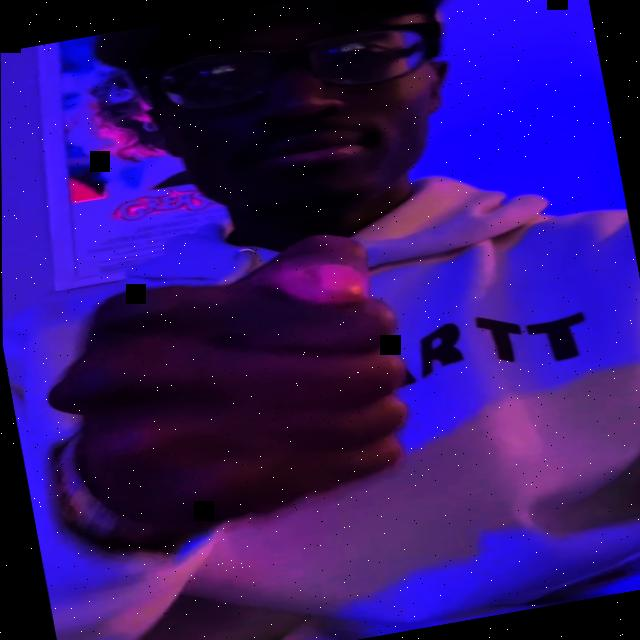Rock: (21, 220, 428, 550)
